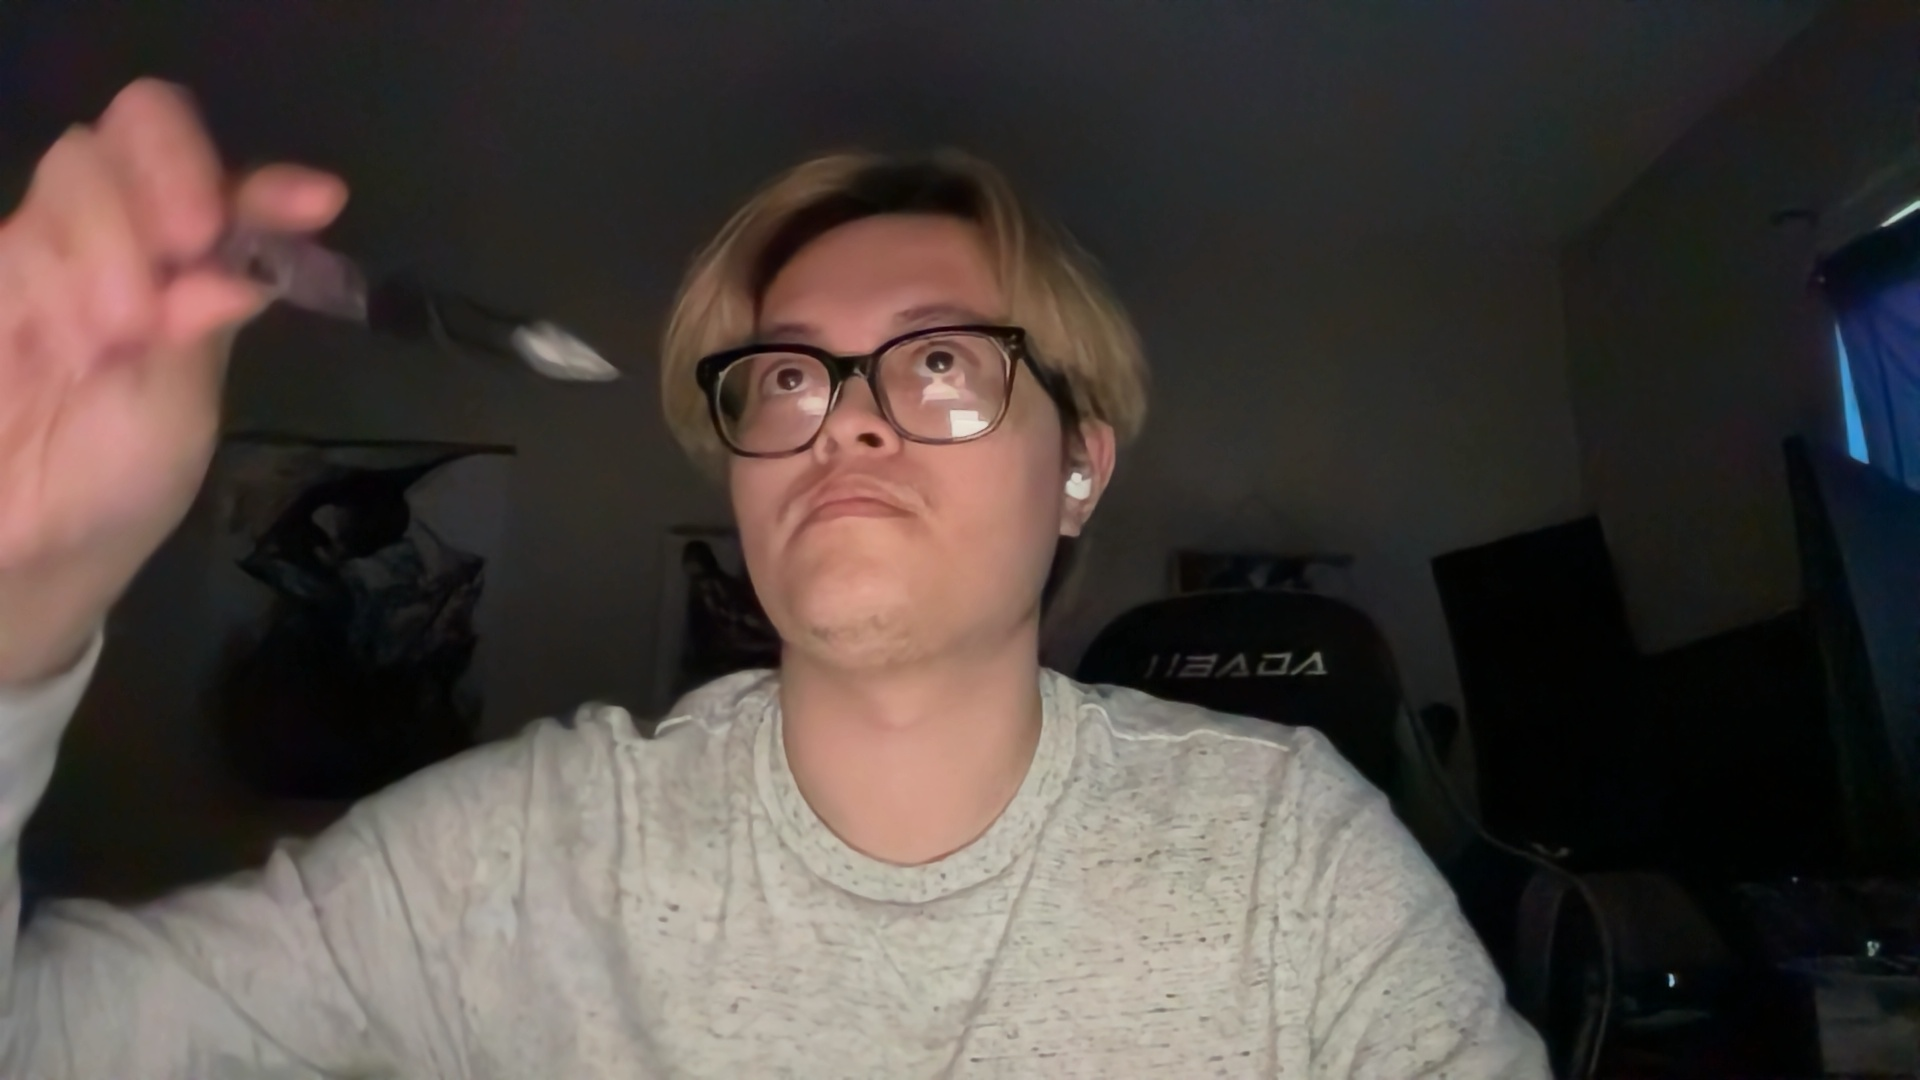pencil: (190, 207, 632, 396)
